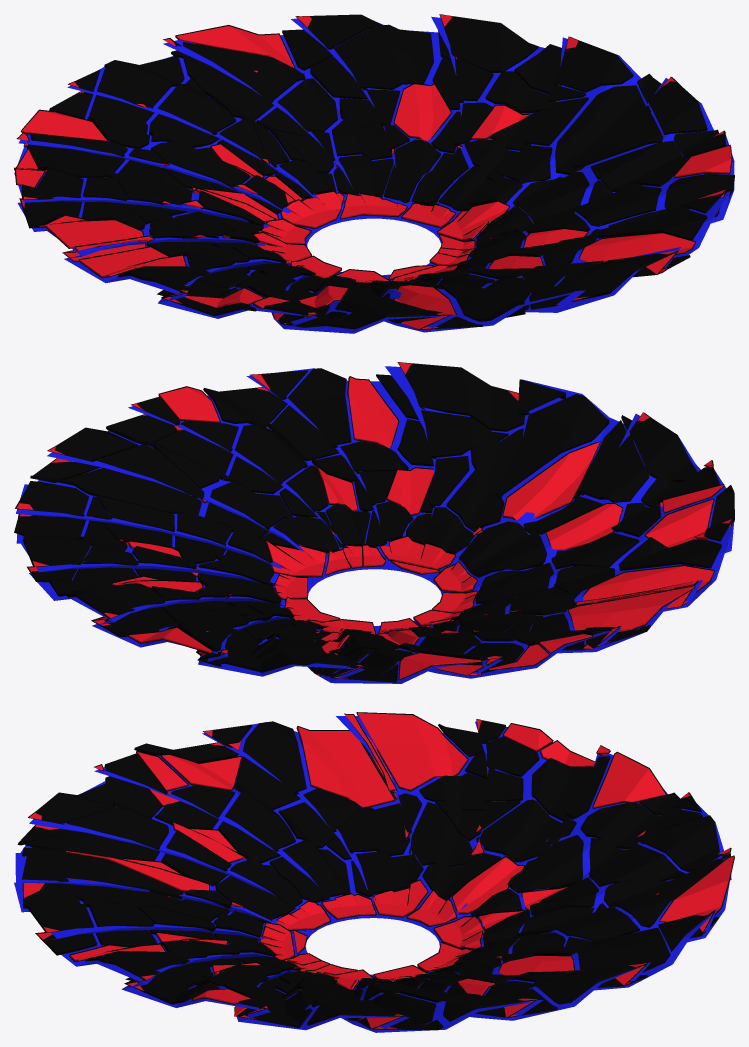
File: terrain.fbx
3 renders of one model, top to bottom at view 1: azimuth 30°, elevation 25°; view 2: azimuth 150°, elevation 25°; view 3: azimuth 270°, elevation 25°, orthographic.
Visible parts, largest first — view 1: Cylinder, Cylinder_cell.082, Cylinder_cell.098, Cylinder_cell.001, Cylinder_cell.062, Cylinder_cell.055, Cylinder_cell.054, Cylinder_cell.041, Cylinder_cell.002, Cylinder_cell.111, Cylinder_cell.121, Cylinder_cell.071 (+74 smaller); view 2: Cylinder, Cylinder_cell.041, Cylinder_cell.044, Cylinder_cell.098, Cylinder_cell.066, Cylinder_cell.111, Cylinder_cell.010, Cylinder_cell.096, Cylinder_cell.039, Cylinder_cell.070, Cylinder_cell.023, Cylinder_cell.062 (+73 smaller); view 3: Cylinder, Cylinder_cell.113, Cylinder_cell.027, Cylinder_cell.044, Cylinder_cell.012, Cylinder_cell.070, Cylinder_cell.041, Cylinder_cell.042, Cylinder_cell.069, Cylinder_cell.002, Cylinder_cell.023, Cylinder_cell.021 (+74 smaller).
Boxes of the visible parts, x1,y1,x2,y2 form: Cylinder: (14, 16, 734, 333); Cylinder_cell.082: (310, 24, 433, 99); Cylinder_cell.098: (555, 85, 663, 174); Cylinder_cell.001: (182, 42, 305, 121); Cylinder_cell.062: (514, 36, 633, 93); Cylinder_cell.055: (438, 14, 538, 72); Cylinder_cell.054: (148, 78, 236, 147); Cylinder_cell.041: (529, 250, 690, 309); Cylinder_cell.002: (27, 133, 127, 177); Cylinder_cell.111: (590, 140, 686, 192); Cylinder_cell.121: (87, 67, 149, 148); Cylinder_cell.071: (282, 14, 382, 70); Cylinder: (16, 366, 734, 683); Cylinder_cell.041: (376, 362, 566, 431); Cylinder_cell.044: (470, 394, 609, 499); Cylinder_cell.098: (54, 444, 204, 514); Cylinder_cell.066: (267, 368, 351, 461); Cylinder_cell.111: (144, 420, 238, 488); Cylinder_cell.010: (397, 410, 508, 466); Cylinder_cell.096: (502, 441, 600, 520); Cylinder_cell.039: (223, 424, 307, 494); Cylinder_cell.070: (574, 420, 649, 502); Cylinder_cell.023: (459, 521, 546, 577); Cylinder_cell.062: (14, 481, 88, 539); Cylinder: (14, 716, 731, 1032); Cylinder_cell.113: (356, 712, 468, 791); Cylinder_cell.027: (296, 726, 395, 807); Cylinder_cell.044: (22, 847, 183, 909); Cylinder_cell.012: (233, 721, 306, 810); Cylinder_cell.070: (25, 807, 168, 860); Cylinder_cell.041: (21, 855, 97, 955); Cylinder_cell.042: (326, 793, 421, 859); Cylinder_cell.069: (476, 799, 576, 862); Cylinder_cell.002: (531, 756, 610, 821); Cylinder_cell.023: (214, 858, 302, 923); Cylinder_cell.021: (218, 791, 295, 863).
Bounding box in the file's own units: 16071 × 2066 × 16079.
